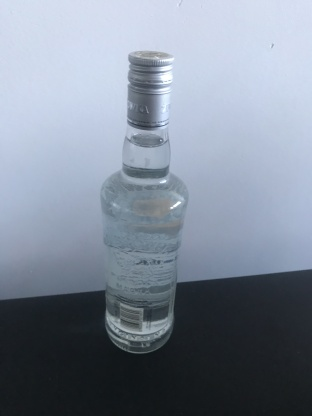nakretka: (124, 45, 175, 133)
